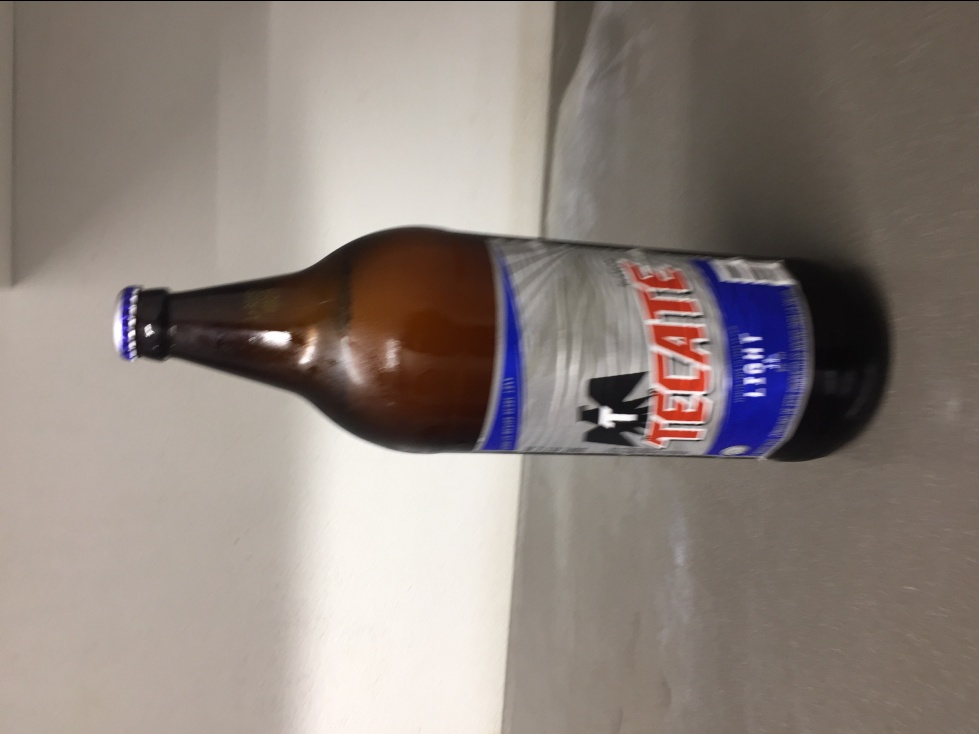tecateC: (112, 214, 894, 457)
